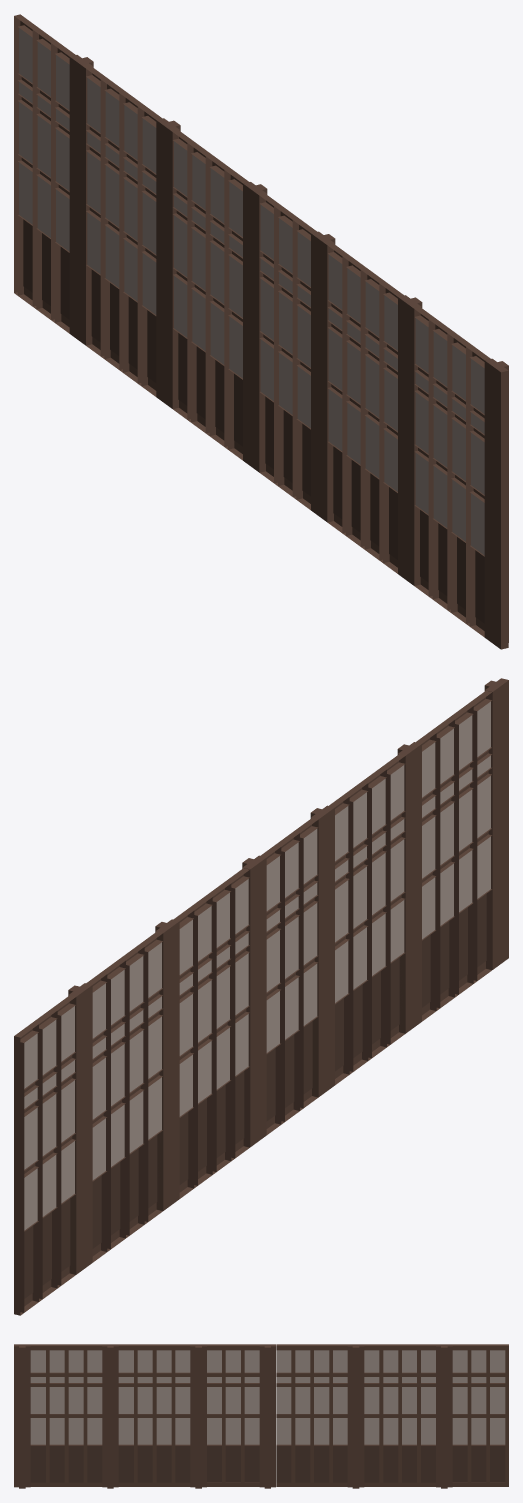
File: set_1_wall_L.glb
3 views of the same model, one above another, from view 1: azimuth 30°, elevation 25°; view 2: azimuth 150°, elevation 25°; view 3: azimuth 270°, elevation 25° (orthographic). The views are drawn at different scales.
Parts seen in each view (by area): view 1: LeftWall; view 2: LeftWall; view 3: LeftWall.
Part boxes in pixels (<box>): LeftWall: <box>14,14,508,649</box>; LeftWall: <box>14,678,508,1315</box>; LeftWall: <box>14,1344,508,1488</box>.
Size of the model in its own units: 0.1674 by 3.45 by 10.98.
